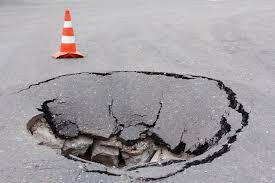pothole: (14, 67, 240, 181)
